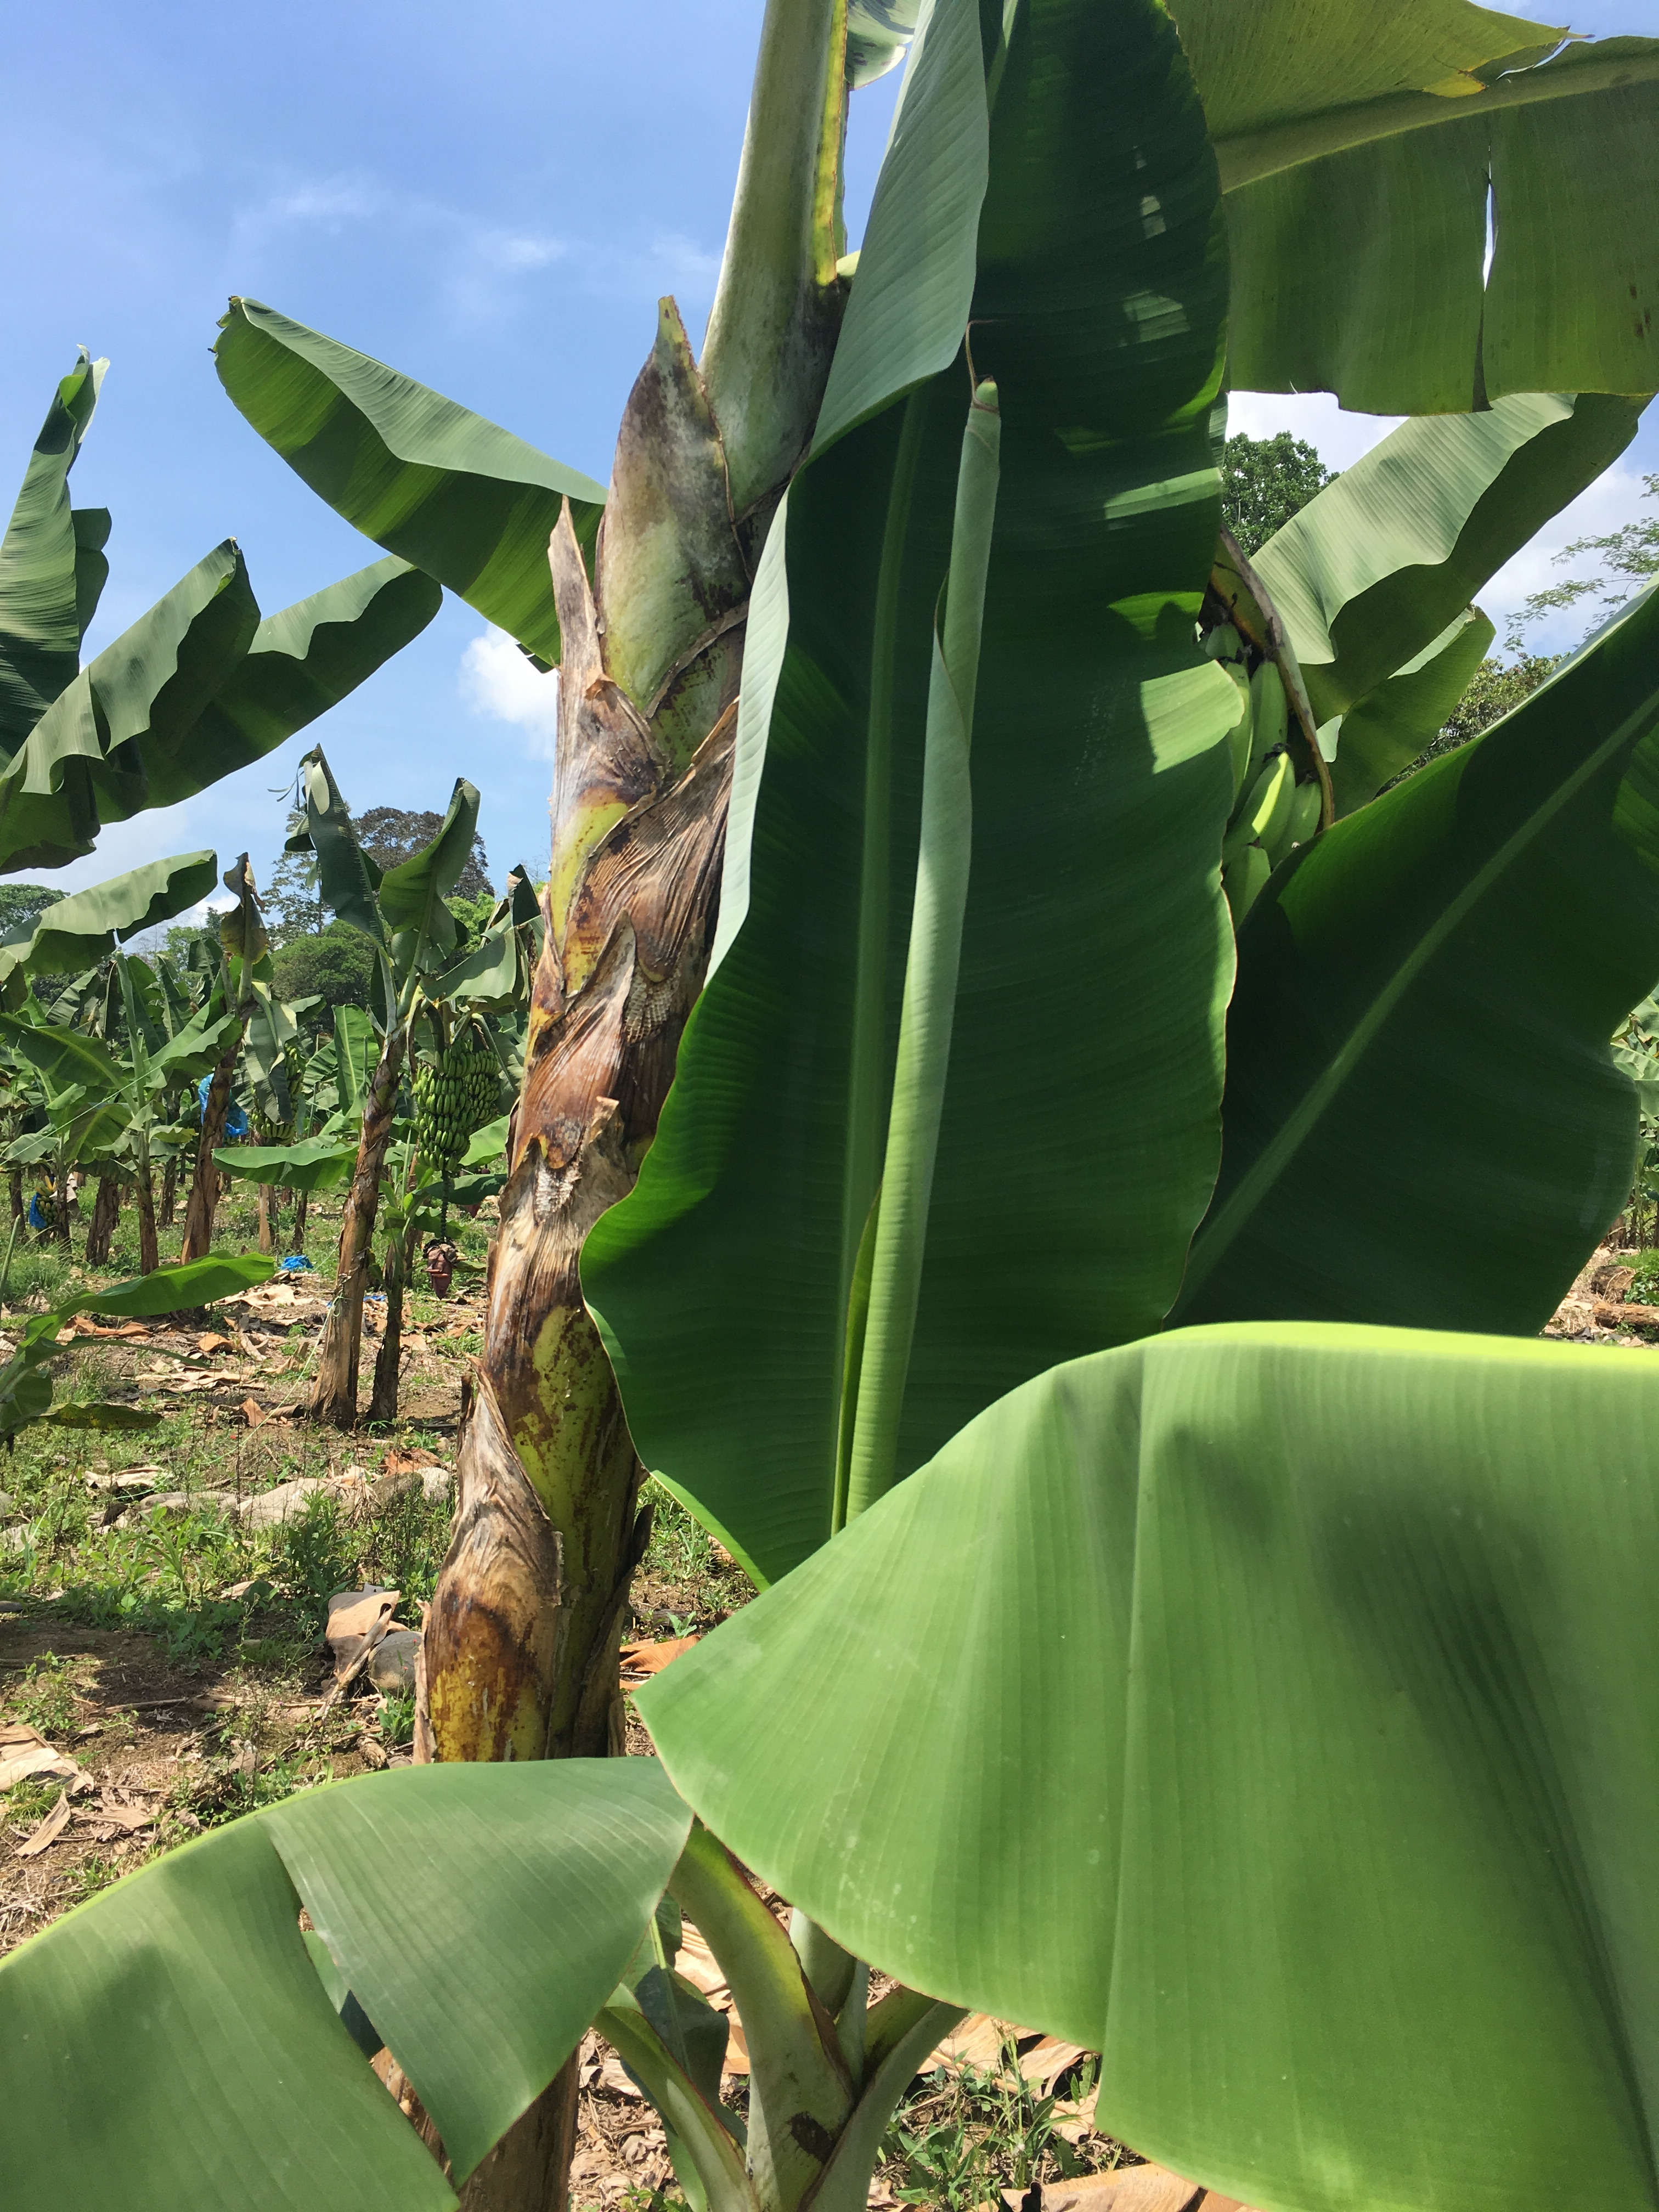candleleafs: (864, 376, 1007, 1420)
